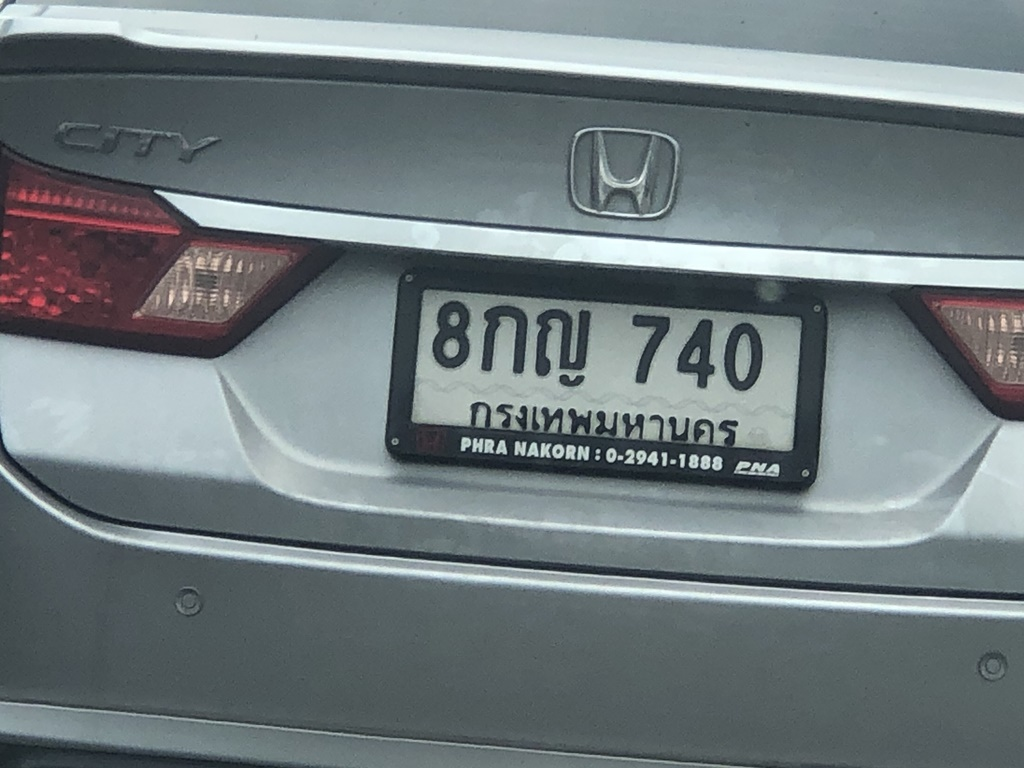eight: (422, 282, 478, 387)
